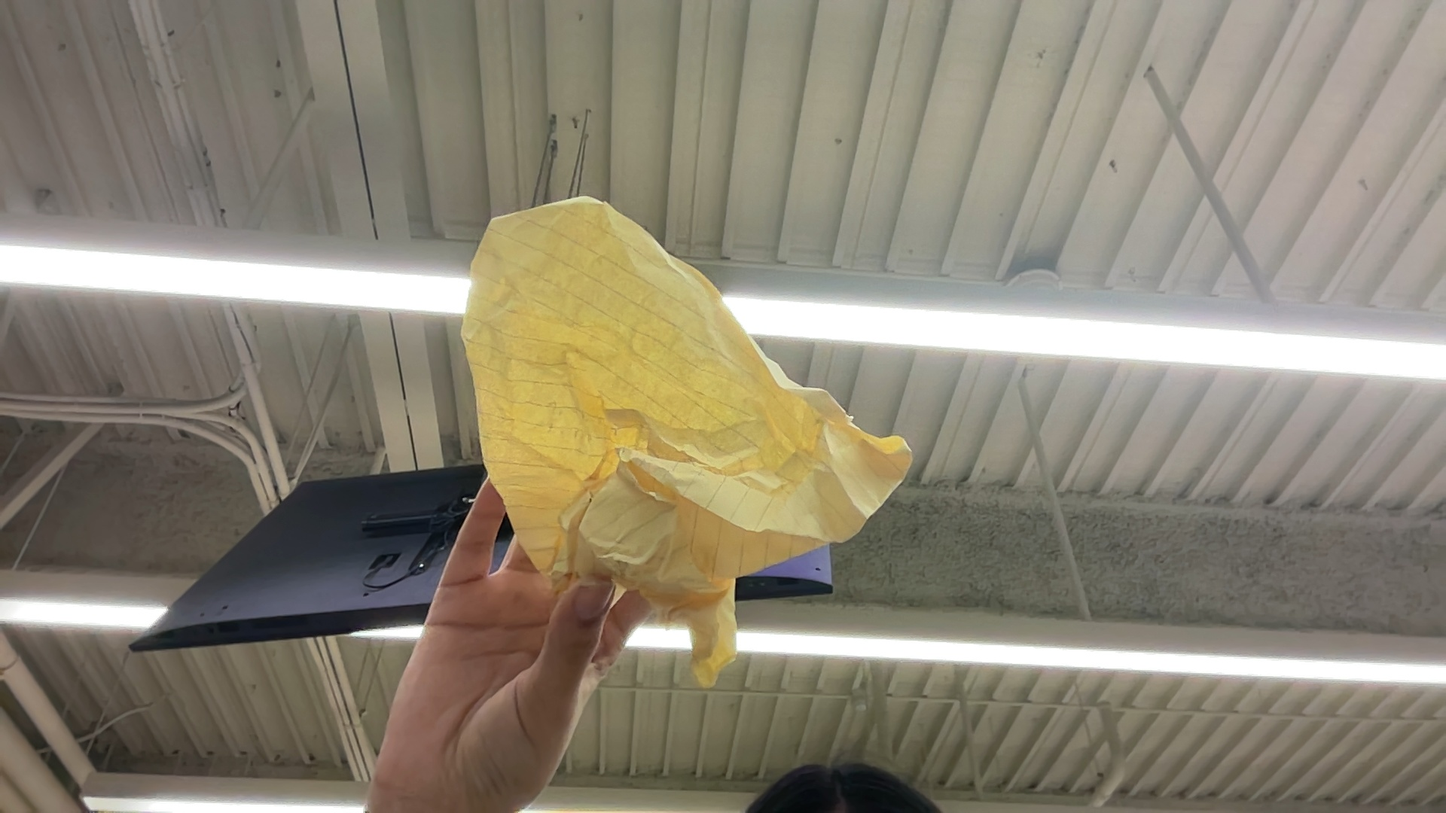Paper: (720, 295, 902, 523)
